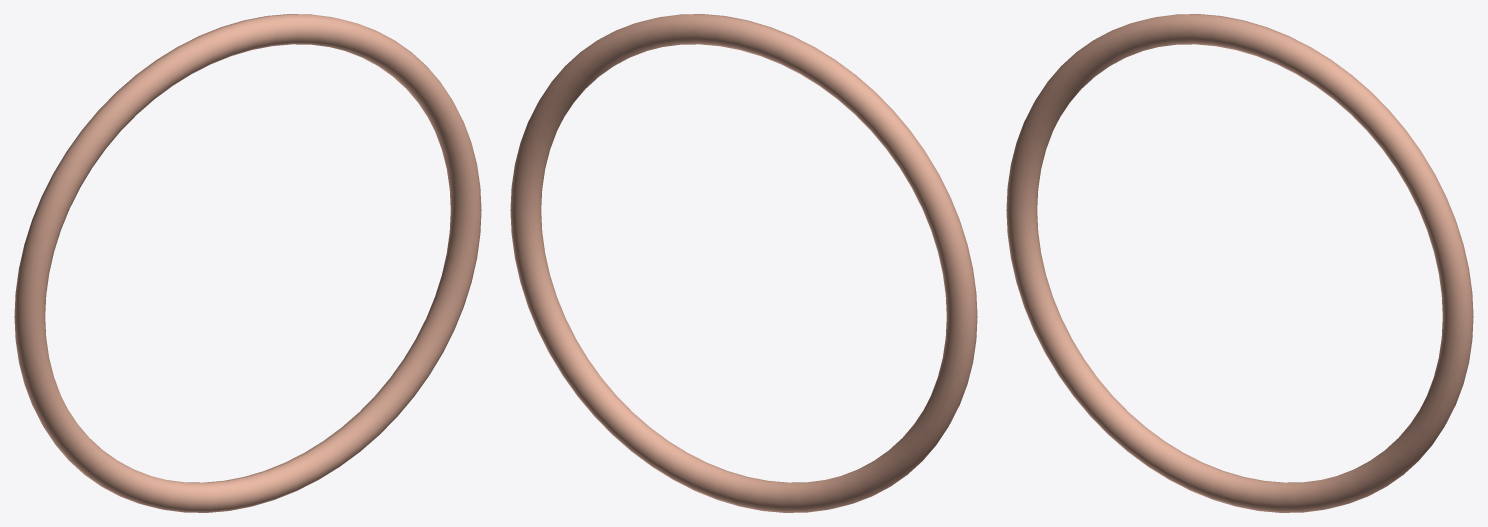
The picture shows the model from 3 angles, left to right: view 1: azimuth 30°, elevation 25°; view 2: azimuth 150°, elevation 25°; view 3: azimuth 330°, elevation 25°; orthographic projection.
Size of the model in its own units: 1.91 by 1.91 by 0.11.
